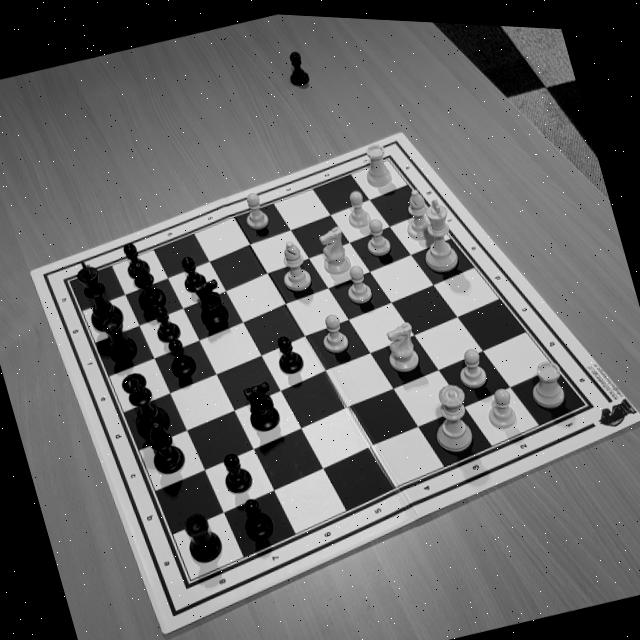chessboard: (67, 153, 592, 581)
